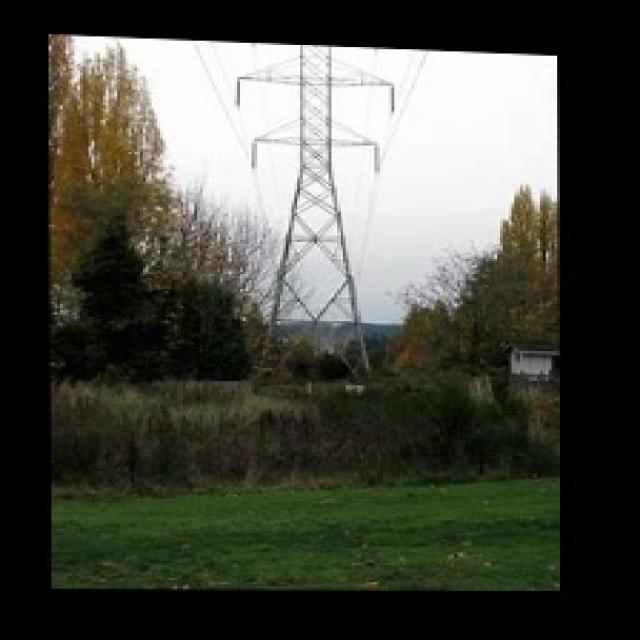utility poles: (211, 240, 309, 382), (324, 308, 449, 385)
